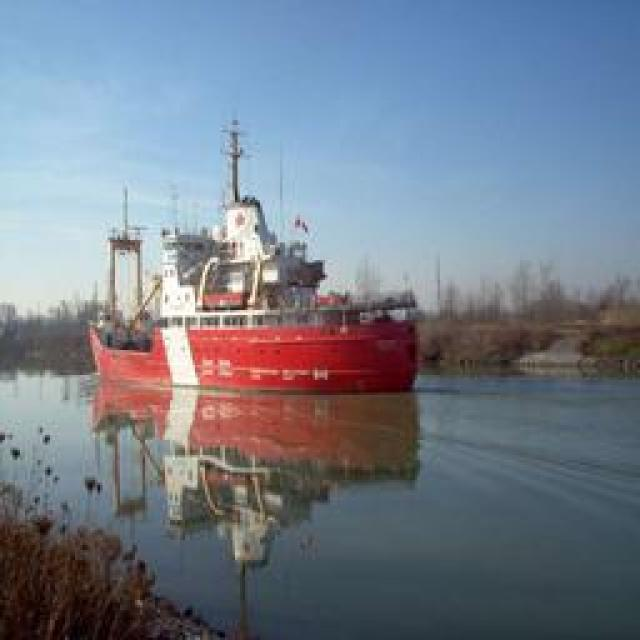CIV_Ship: (86, 158, 419, 412)
